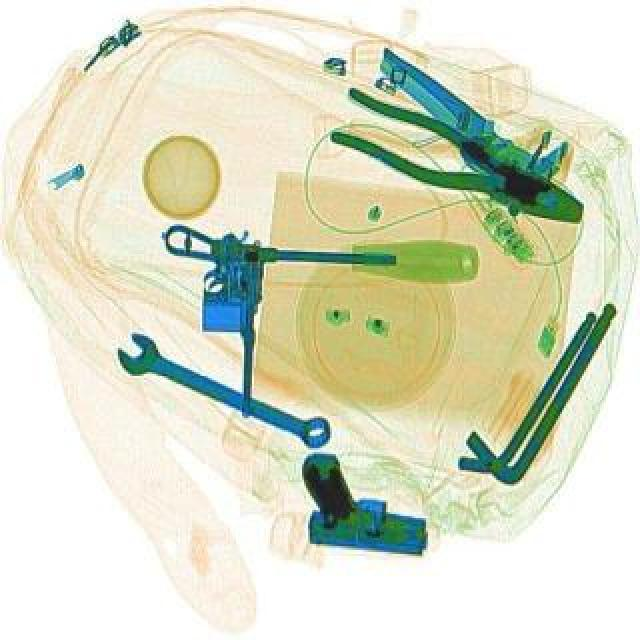gun: (158, 226, 262, 420), (300, 454, 430, 562)
scissors: (106, 328, 338, 460)
wrench: (324, 86, 598, 246)
